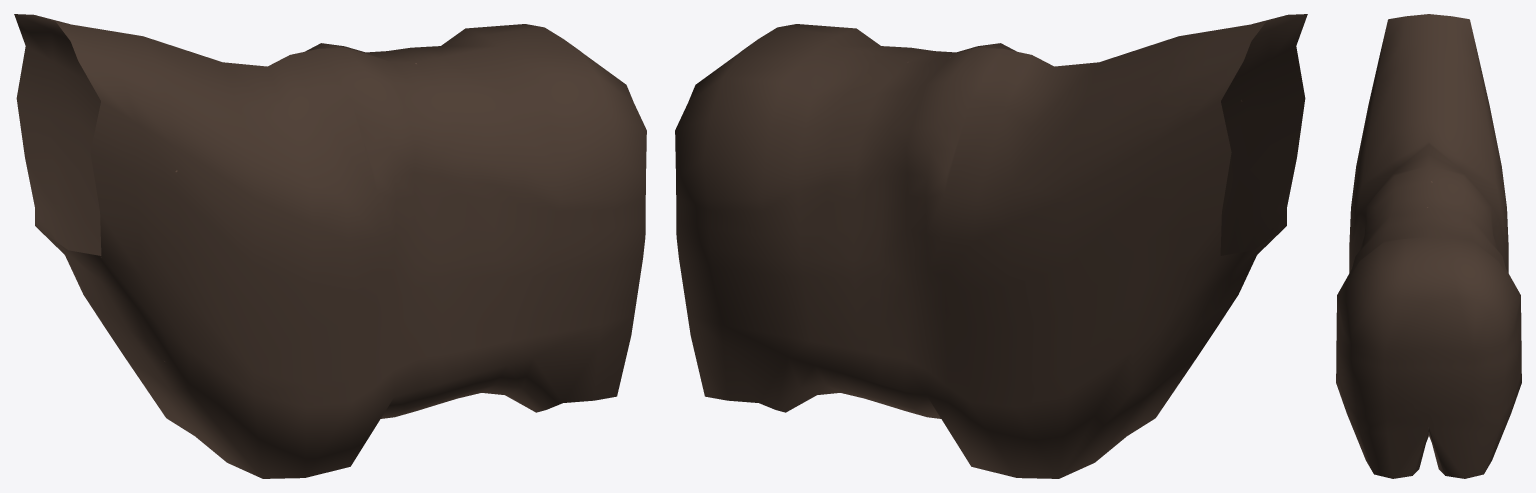
The model's file is Moose Body.fbx.
The picture shows the model from 3 angles, left to right: view 1: azimuth 30°, elevation 25°; view 2: azimuth 150°, elevation 25°; view 3: azimuth 270°, elevation 25°; orthographic projection. The views are drawn at different scales.
Visible parts, largest first — view 1: Moose Body; view 2: Moose Body; view 3: Moose Body.
Boxes of the visible parts, <box> form: Moose Body: <box>14,14,646,478</box>; Moose Body: <box>675,14,1307,478</box>; Moose Body: <box>1336,14,1521,478</box>.
Bounding box in the file's own units: 4.37 × 1.96 × 3.53.
